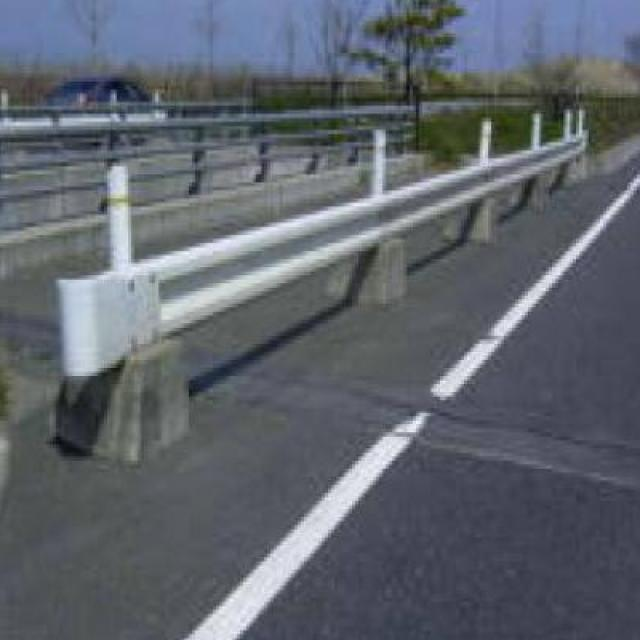Guard rail: (55, 110, 590, 448)
